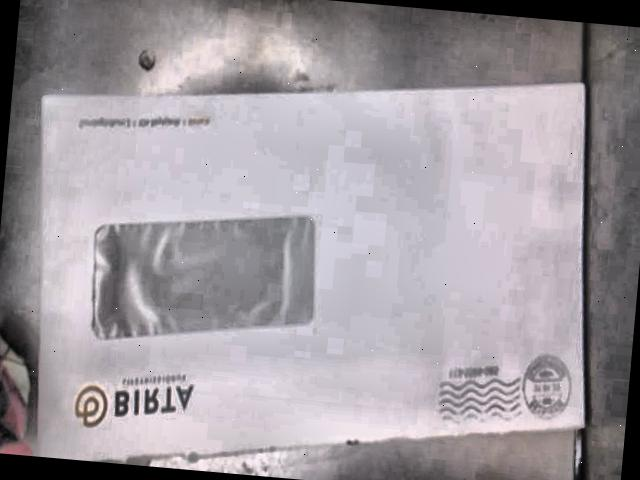Paper: (36, 83, 586, 465)
